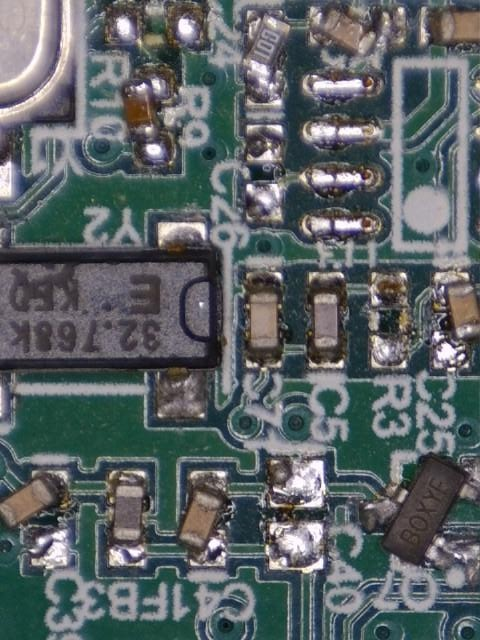pcb_defect: (357, 451, 480, 584), (0, 468, 70, 570), (307, 1, 409, 62), (120, 64, 175, 168), (174, 469, 230, 567), (238, 7, 293, 106), (428, 271, 480, 373), (106, 469, 149, 569)
